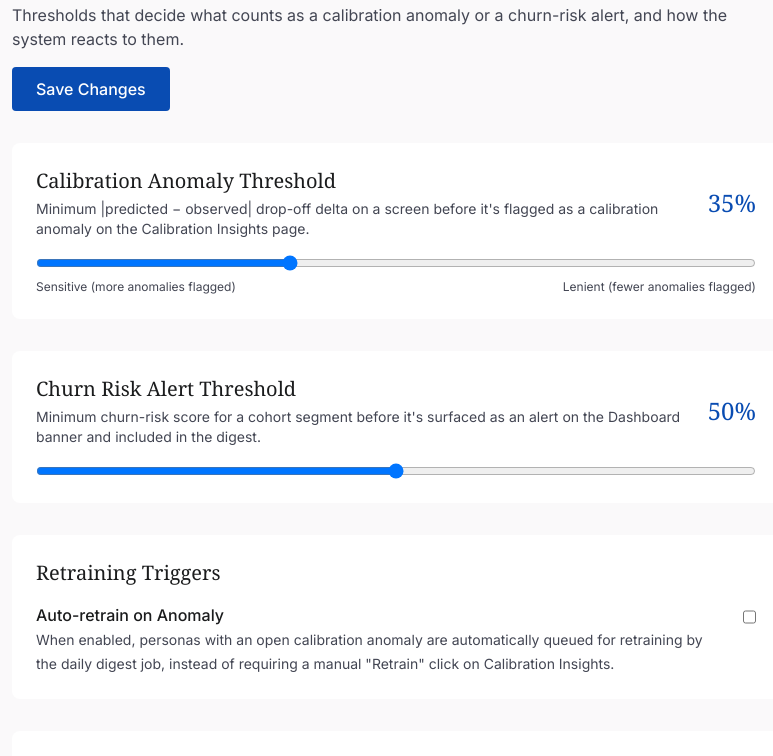
Test: ModelCalibrationSettingsPage › saves updated settings
Expected: the text "35%" is shown, [708,187,756,219]
Click the checkbox. click: coordinates (750, 617)
box: [743,607,756,627]
(page scrolled)
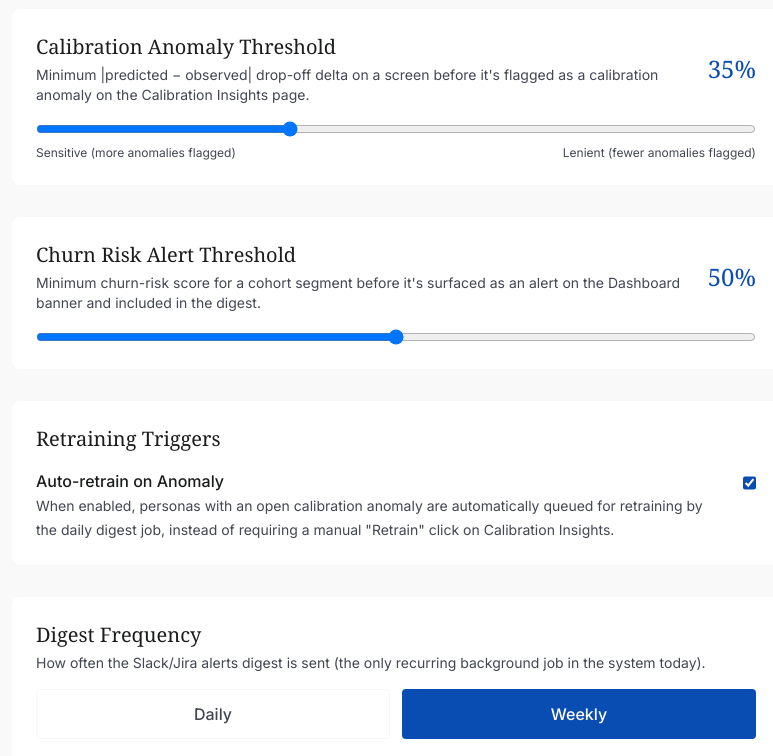
Click the button "Daily". click: coordinates (213, 714)
box: [36,689,390,739]
(page scrolled)
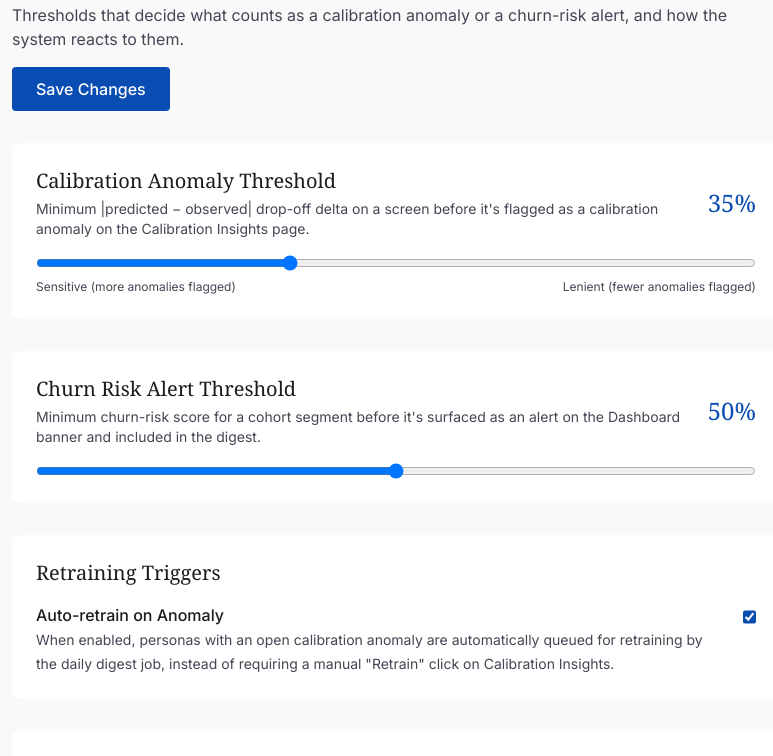
Click the button "Save Changes". click: coordinates (91, 89)
box: [12,67,170,111]
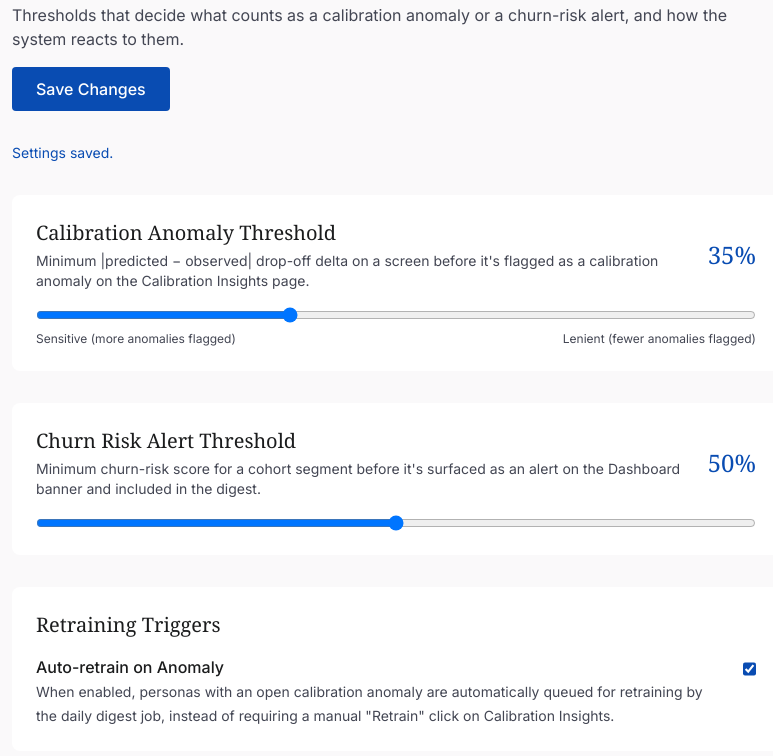
Expected: the text "Settings saved." is shown, [12,144,113,161]
